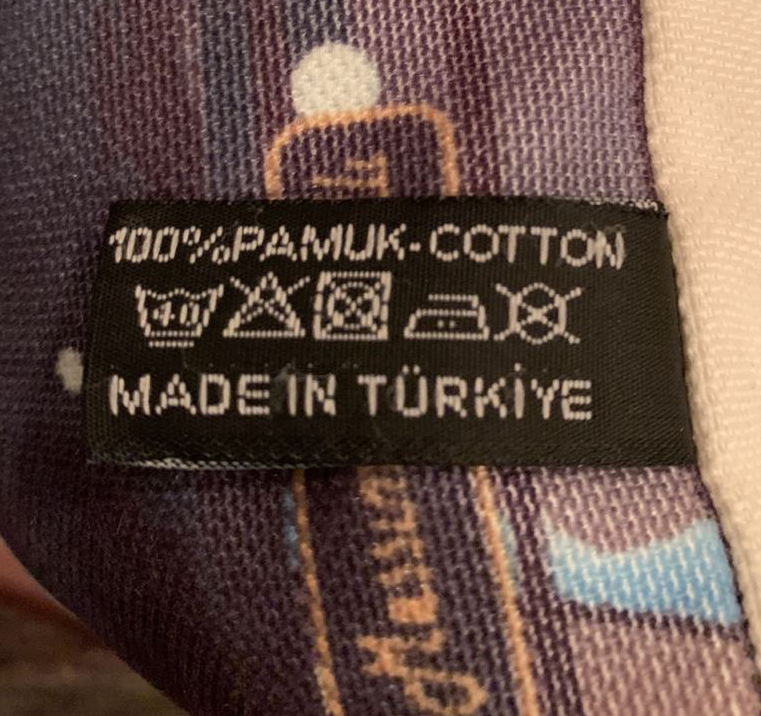do_not_bleach: (225, 270, 314, 342)
do_not_dry_clean: (487, 280, 593, 348)
do_not_tumble_drying: (311, 267, 394, 346)
ironing_at_med_temp: (397, 289, 492, 345)
wash_at_or_below_40_mild_fine_wash: (131, 280, 225, 353)
